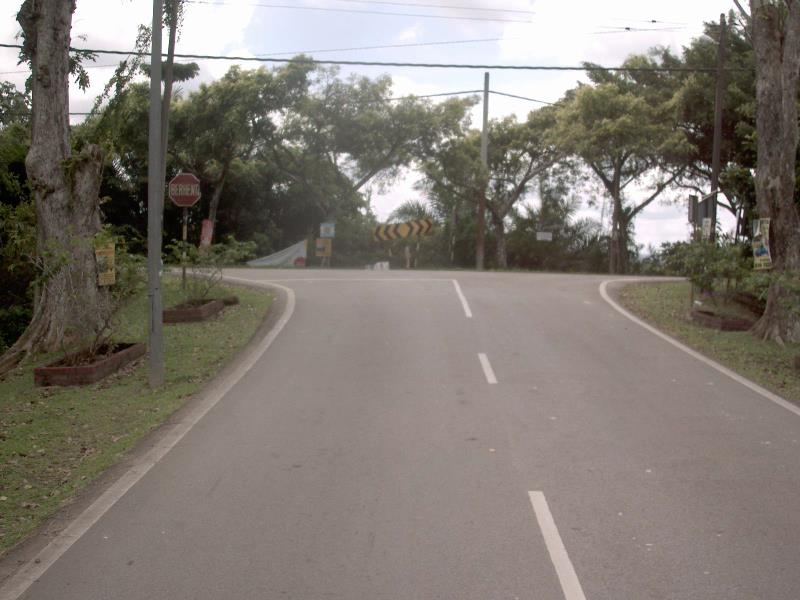traffic_sign: (162, 164, 208, 215)
